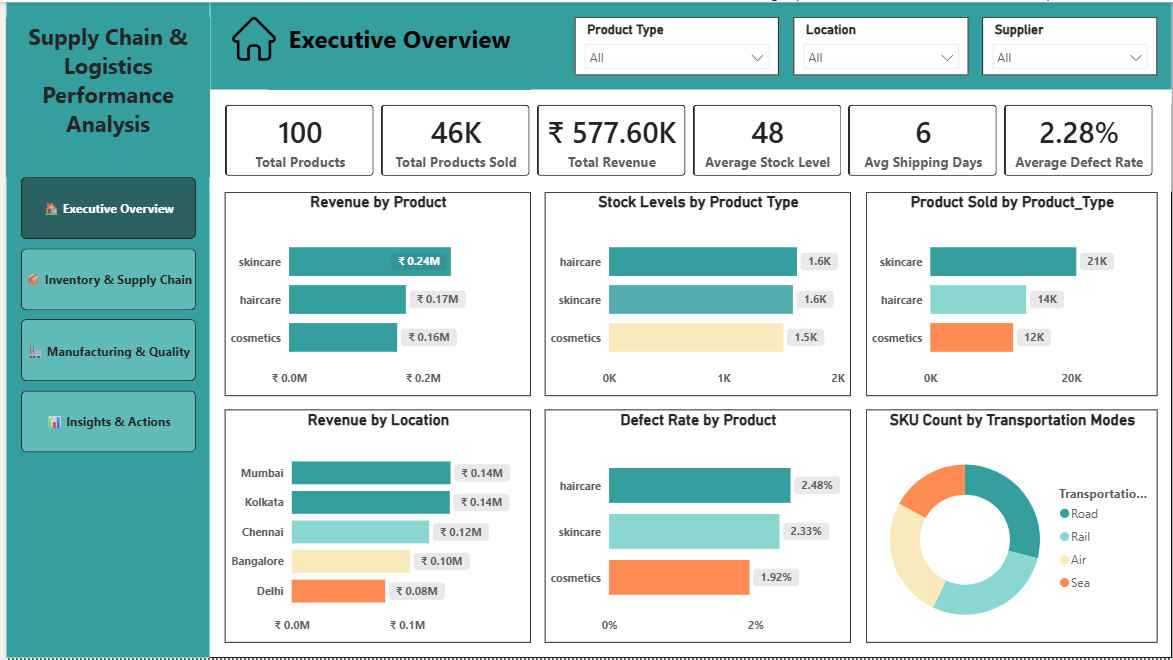

Layout of this report page (visuals, bound fields, positions):
{"tool":"powerbi","page":{"name":"🏠 Executive Overview","canvas":[1280,720],"ordinal":0},"visuals":[{"type":"shape","box":[0,0,1280,720],"z":0},{"type":"shape","box":[0,0,224,720],"z":1000},{"type":"shape","box":[224,0,1056,112],"z":2000},{"type":"cardVisual","fields":{"Data":["Measures_Table.Total Products","Measures_Table.Total Products Sold","Measures_Table.Total Revenue","Measures_Table.Average Stock Level","Measures_Table.Average Shipping Time","Measures_Table.Average Defect Rate"]},"box":[224,96,1056,112],"z":3000},{"type":"barChart","title":"Revenue by Product","fields":{"Category":["supply_chain.product_type"],"Y":["Measures_Table.Total Revenue"]},"box":[240,208,336,224],"z":4000},{"type":"barChart","title":"Product Sold by Product_Type","fields":{"Category":["supply_chain.product_type"],"Y":["Measures_Table.Total Products Sold"]},"box":[944,208,320,224],"z":5000},{"type":"clusteredBarChart","title":"Stock Levels by Product Type","fields":{"Category":["supply_chain.product_type"],"Y":["Sum(supply_chain.stock_levels)"]},"box":[592,208,336,224],"z":6000},{"type":"barChart","title":"Revenue by Location","fields":{"Category":["supply_chain.location"],"Y":["Measures_Table.Total Revenue"]},"box":[240,448,336,256],"z":7000},{"type":"donutChart","title":" SKU Count by Transportation Modes","fields":{"Category":["supply_chain.transportation_modes"],"Y":["CountNonNull(supply_chain.sku)"]},"box":[944,448,320,256],"z":8000},{"type":"barChart","title":"Defect Rate by Product","fields":{"Category":["supply_chain.product_type"],"Y":["Measures_Table.Average Defect Rate"]},"box":[592,448,336,256],"z":9000},{"type":"slicer","fields":{"Values":["supply_chain.location"]},"box":[864,16,192,64],"z":10000},{"type":"slicer","fields":{"Values":["supply_chain.supplier_name"]},"box":[1072,16,192,64],"z":11000},{"type":"slicer","fields":{"Values":["supply_chain.product_type"]},"box":[624,16,224,64],"z":12000},{"type":"textbox","box":[288,16,288,80],"z":13000},{"type":"pageNavigator","box":[16,192,192,304],"z":14000},{"type":"textbox","box":[0,16,224,176],"z":15000},{"type":"image","box":[240,16,64,48],"z":16000}]}

Visuals, with their boxes in screenshot pixels (x1, y1, x2, y2), scaled from the page's 1280x720 canvas onto the 1173x660 screenshot:
shape: locate(0, 0, 1172, 659)
shape: locate(0, 0, 205, 659)
shape: locate(205, 0, 1172, 103)
cardVisual - Measures_Table.Total Products x Measures_Table.Total Products Sold: locate(205, 88, 1172, 191)
"Revenue by Product" barChart: locate(220, 191, 528, 396)
"Product Sold by Product_Type" barChart: locate(865, 191, 1158, 396)
"Stock Levels by Product Type" clusteredBarChart: locate(543, 191, 850, 396)
"Revenue by Location" barChart: locate(220, 411, 528, 645)
" SKU Count by Transportation Modes" donutChart: locate(865, 411, 1158, 645)
"Defect Rate by Product" barChart: locate(543, 411, 850, 645)
slicer - supply_chain.location: locate(792, 15, 968, 73)
slicer - supply_chain.supplier_name: locate(982, 15, 1158, 73)
slicer - supply_chain.product_type: locate(572, 15, 777, 73)
textbox: locate(264, 15, 528, 88)
pageNavigator: locate(15, 176, 191, 455)
textbox: locate(0, 15, 205, 176)
image: locate(220, 15, 279, 59)
